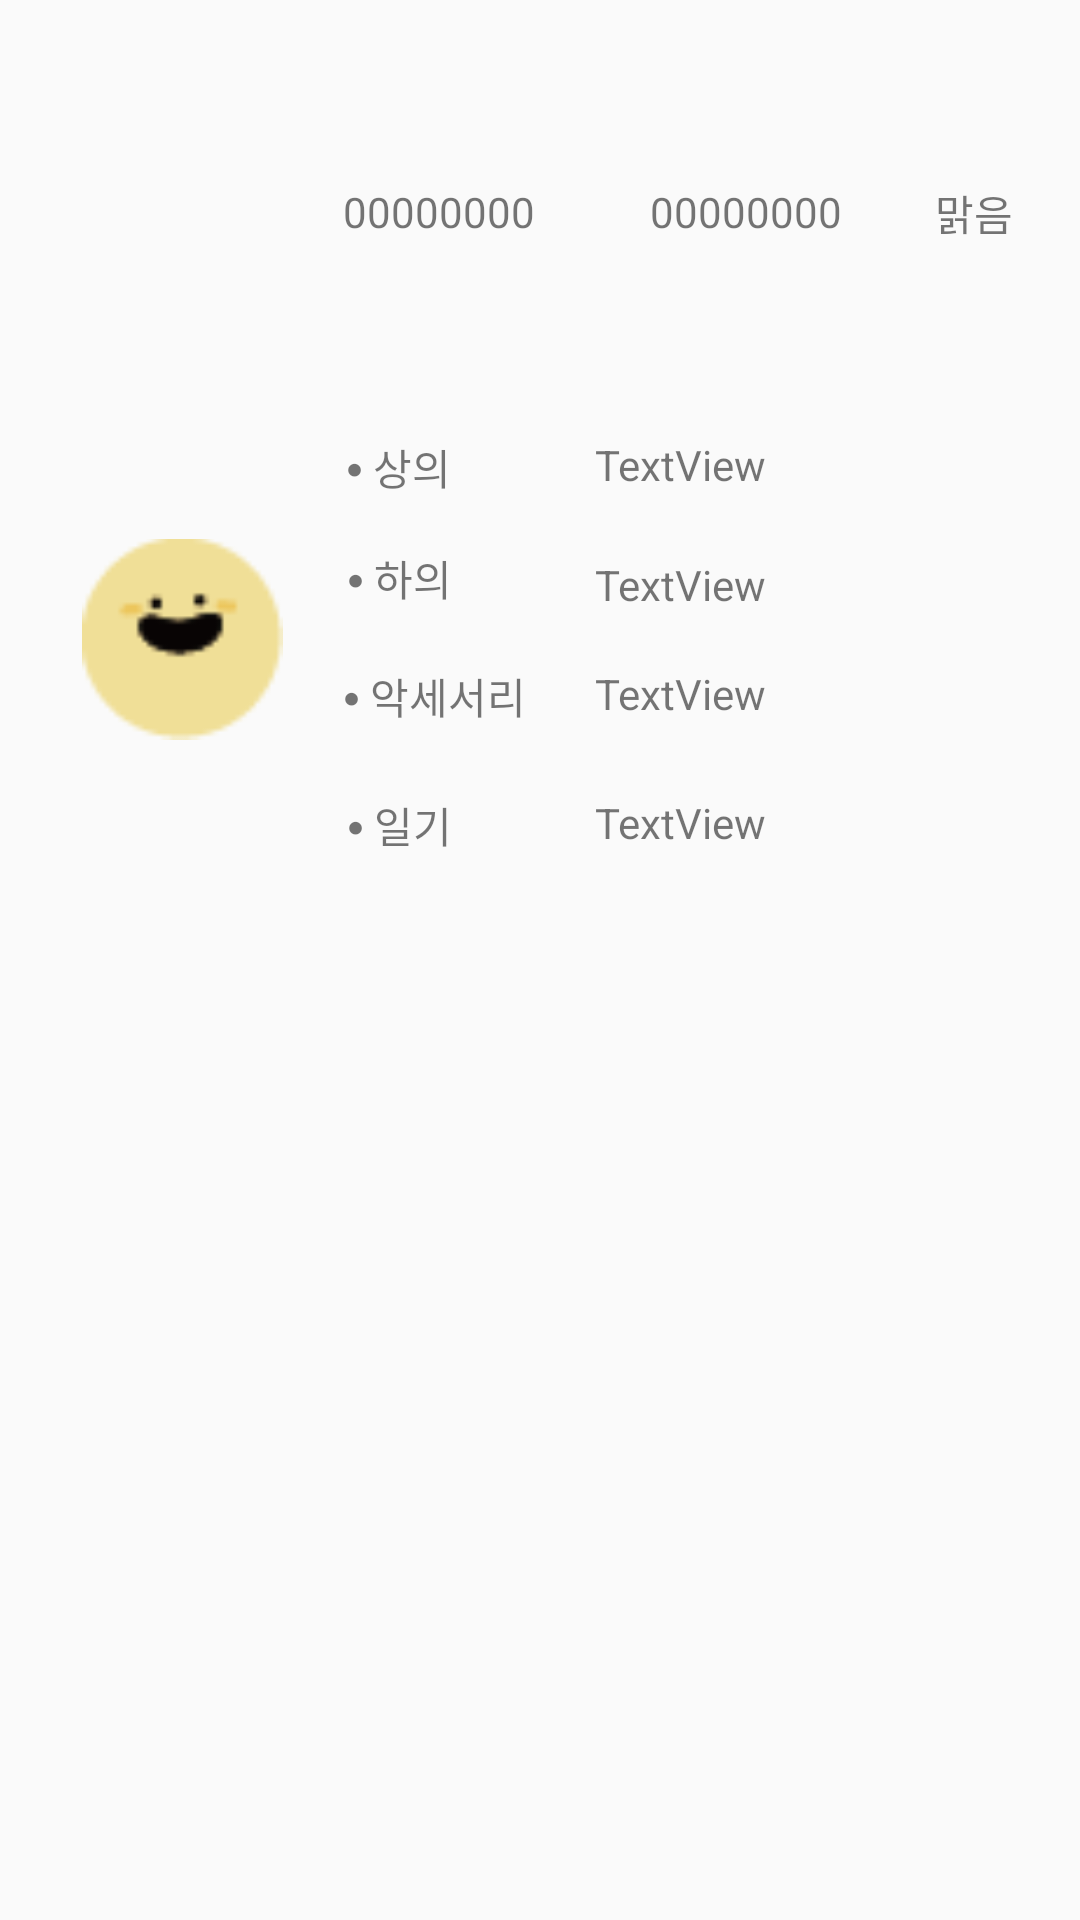

Icon click points for this 1080*1920 phone screenshot, format point (x, y):
nice: point (182, 639)
